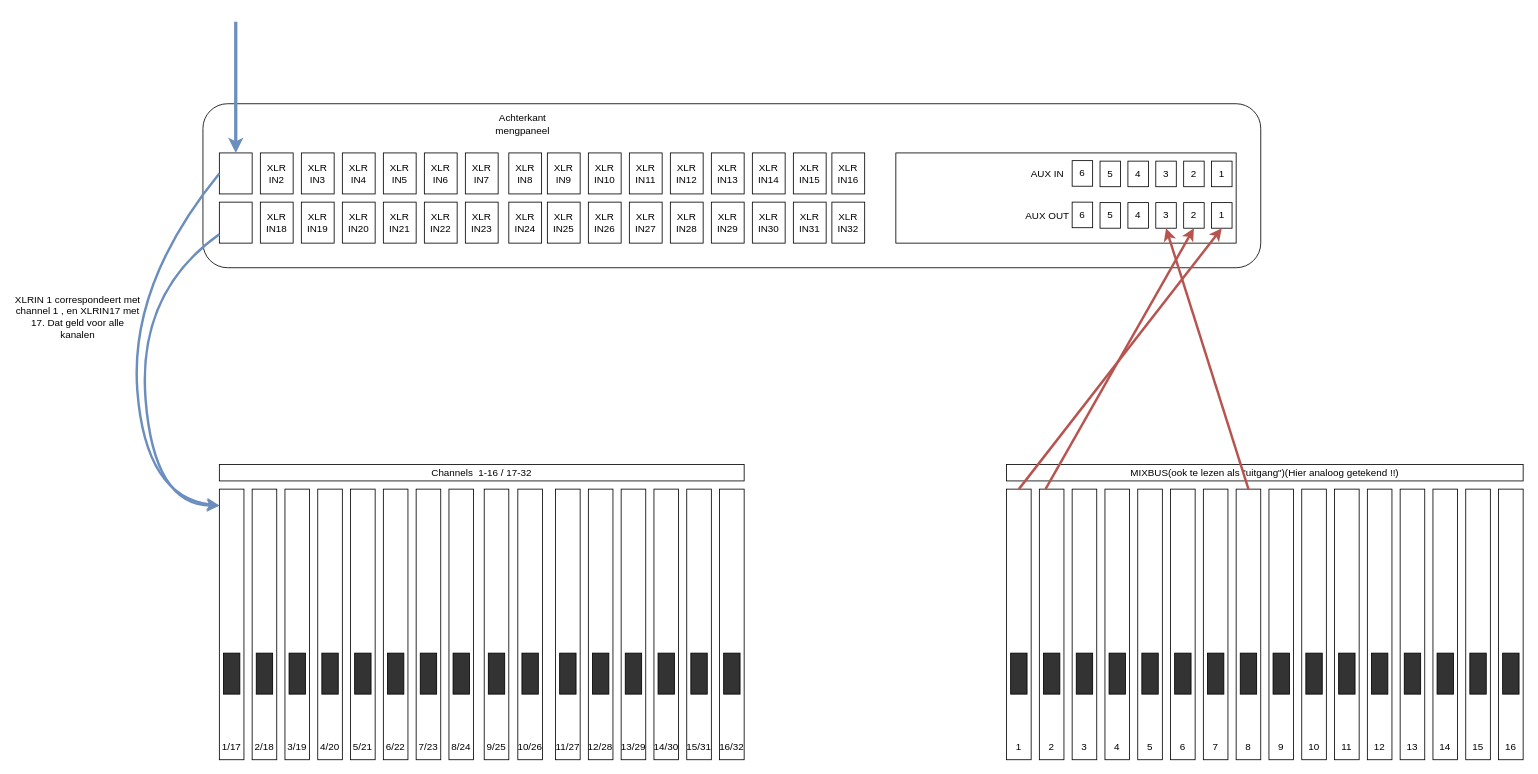
Some shapes in this 1538 by 774 pixel diagram are drawn without their labels. Each missing label, with the box of its shape:
XLR IN1: (219, 152, 252, 194)
XLR IN17: (219, 201, 252, 243)
